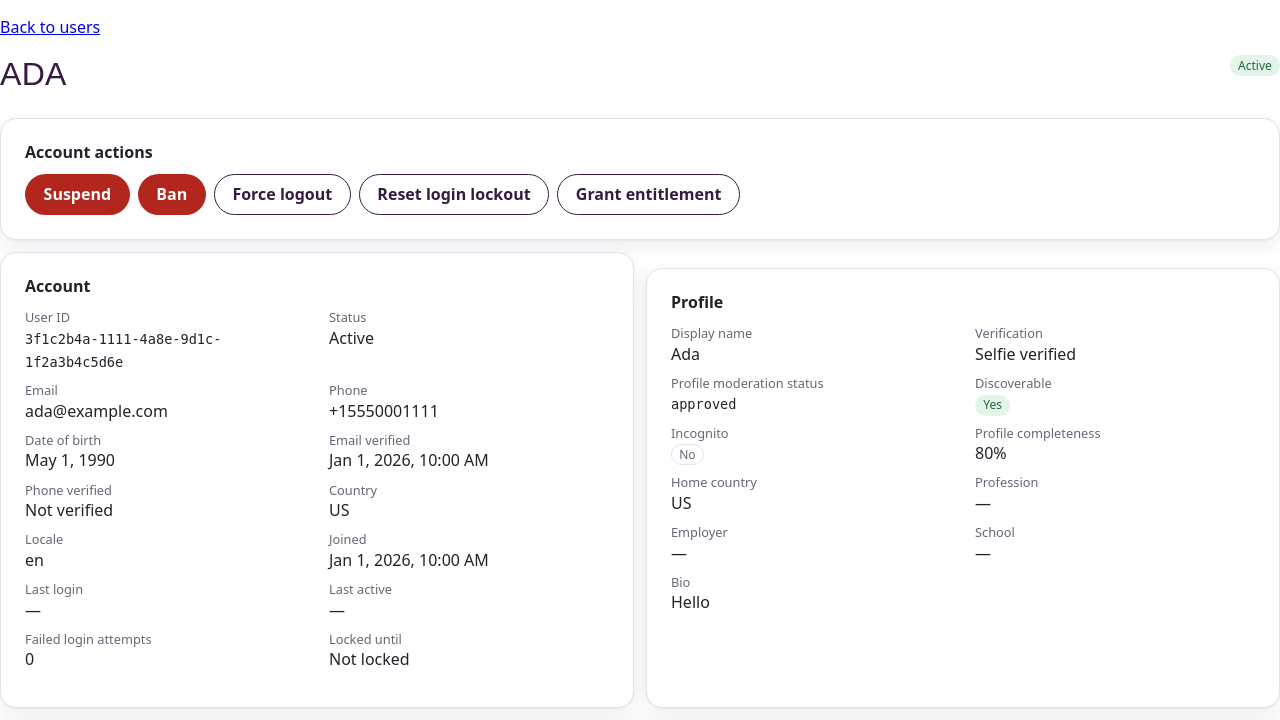
Test: UserDetailPage › grants an entitlement and refreshes the billing card
The image size is (1280, 720).
Click the button "Grant entitlement" at (649, 194), box [557, 174, 740, 215]
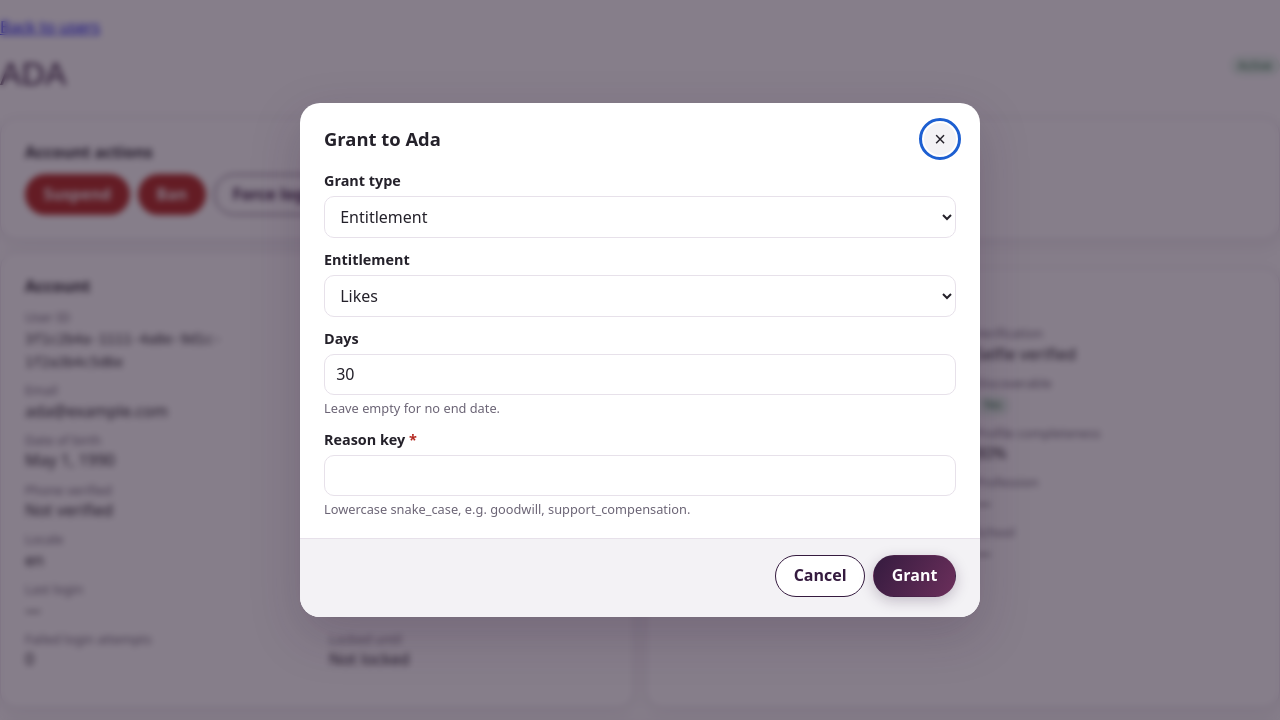
Select "Incognito" in the dropdown labelled "Entitlement" at (640, 296), box [324, 275, 956, 317]
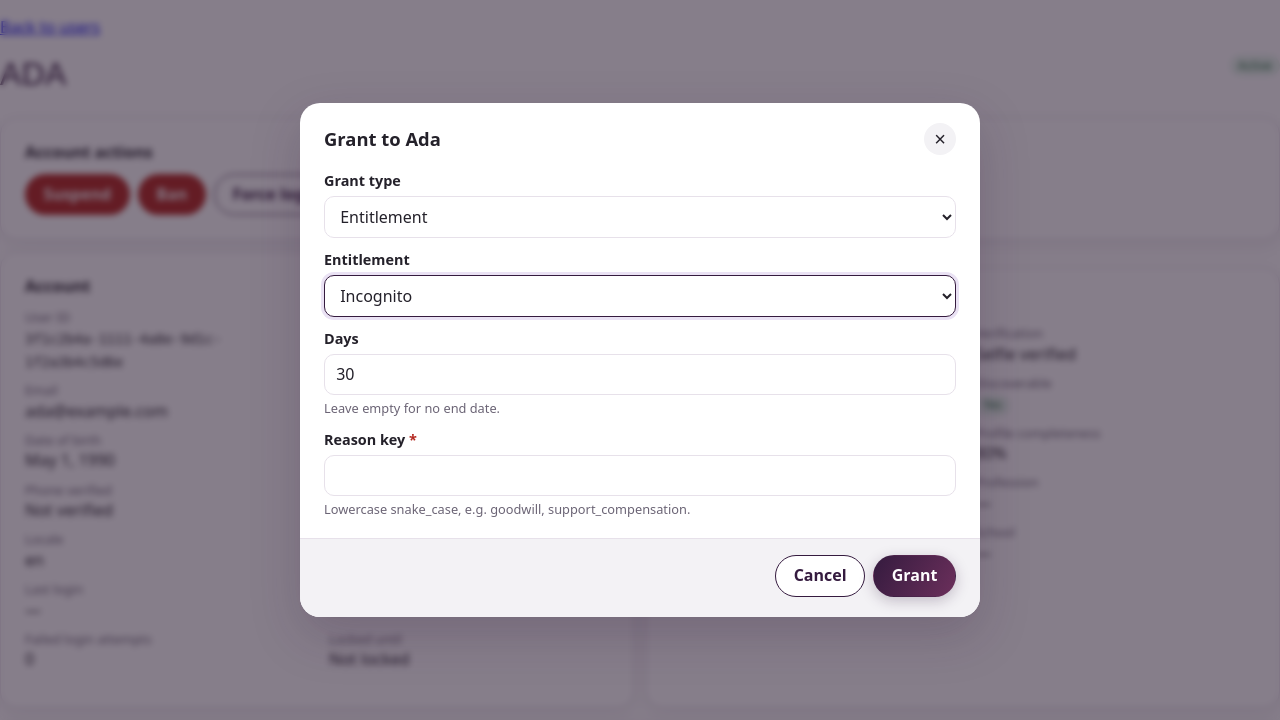
Type "goodwill" into the field labelled "Reason key" at (640, 475), box [324, 455, 956, 496]
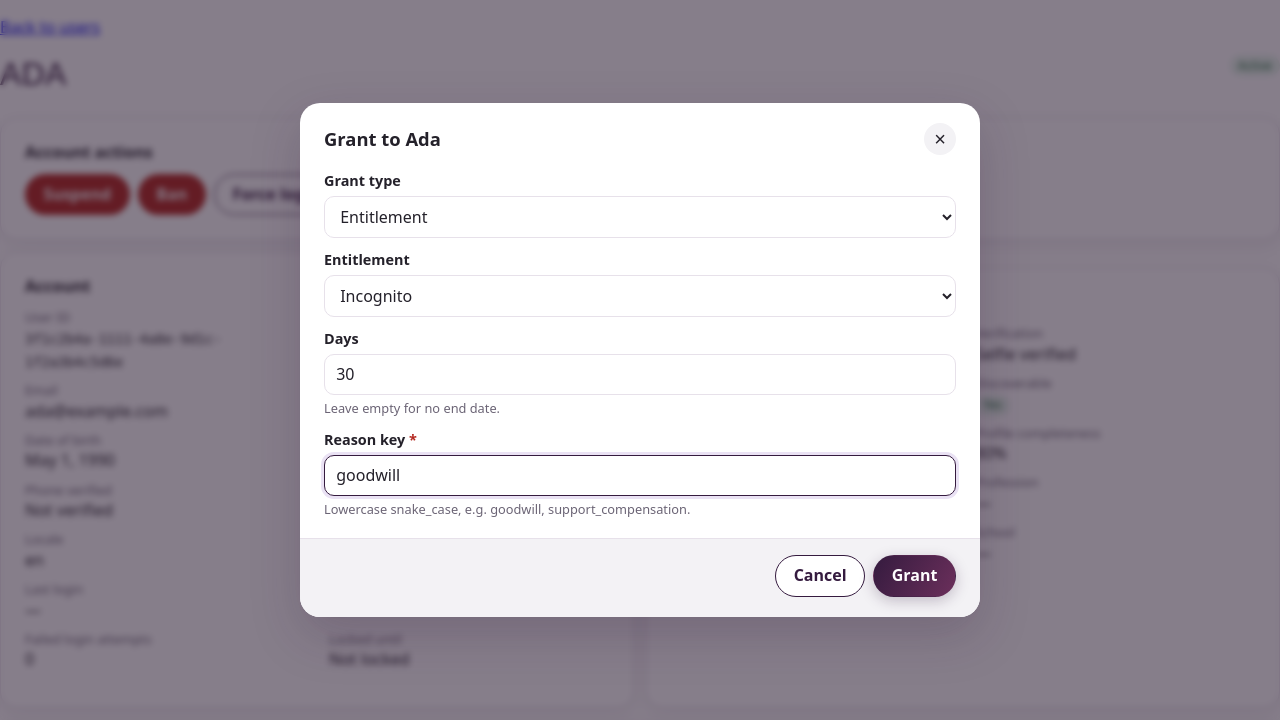
Click the button "Grant" at (915, 576), box [873, 555, 956, 597]
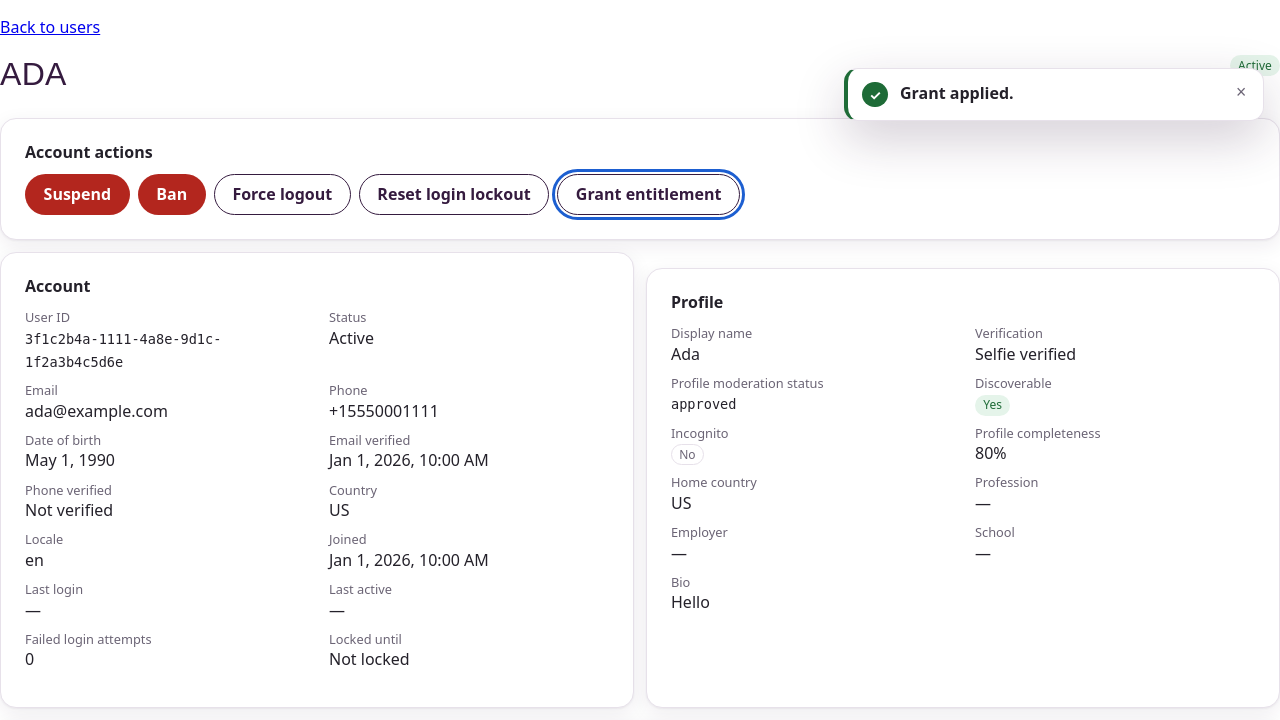
Check: the text "Grant applied." is shown, box [900, 82, 1014, 104]
